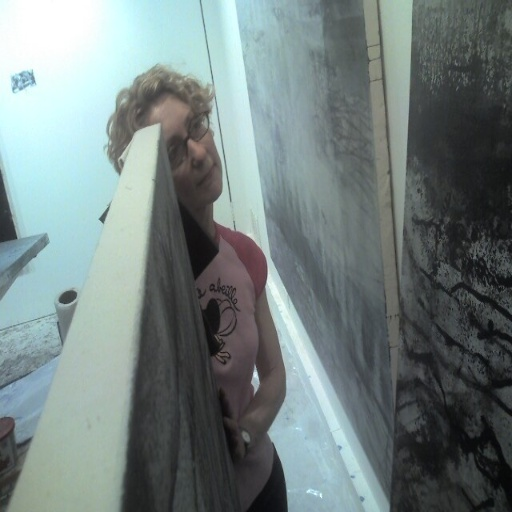hand: (227, 419, 245, 464)
